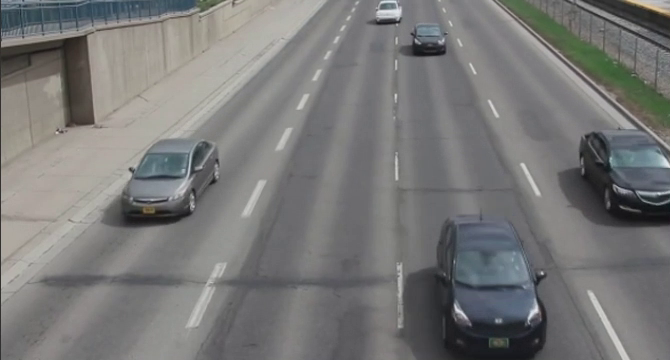car: (436, 206, 547, 360), (118, 128, 225, 228), (575, 124, 670, 224), (412, 18, 450, 61), (370, 1, 407, 27)
